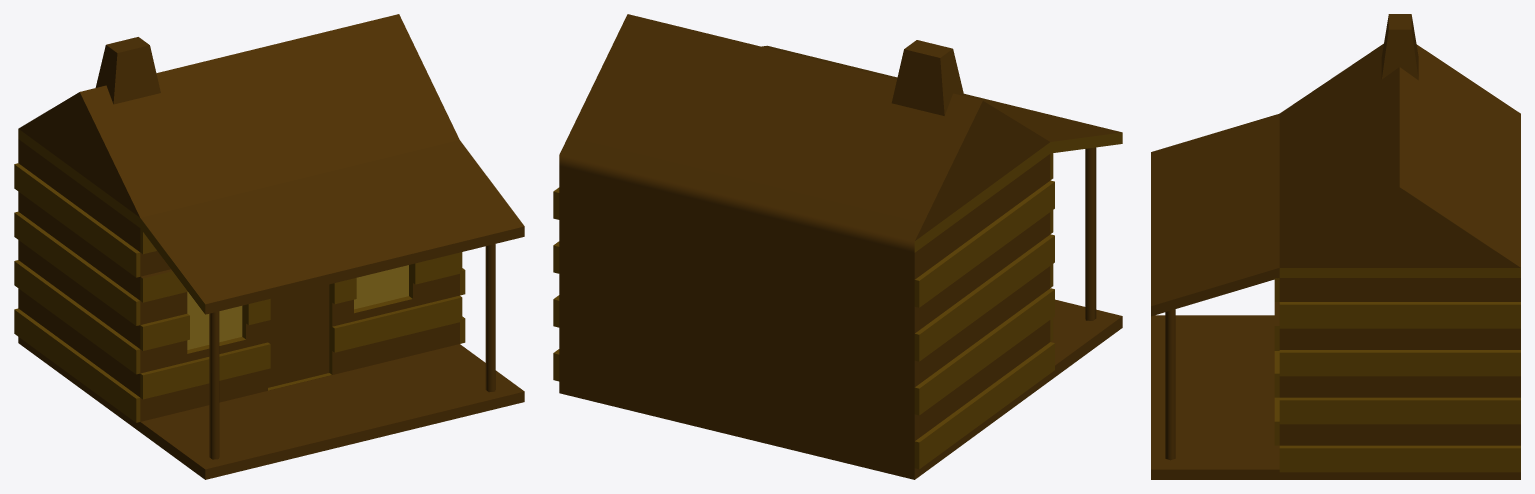
The model's file is log_cabin.fbx.
The picture shows the model from 3 angles, left to right: view 1: azimuth 30°, elevation 25°; view 2: azimuth 150°, elevation 25°; view 3: azimuth 270°, elevation 25°; orthographic projection. The views are drawn at different scales.
Parts seen in each view (by area): view 1: pCube10; view 2: pCube10; view 3: pCube10.
Part boxes in pixels (<box>): pCube10: <box>14,14,524,479</box>; pCube10: <box>553,14,1122,479</box>; pCube10: <box>1151,14,1520,479</box>.
Bounding box in the file's own units: 9.12 × 8.76 × 8.97.
